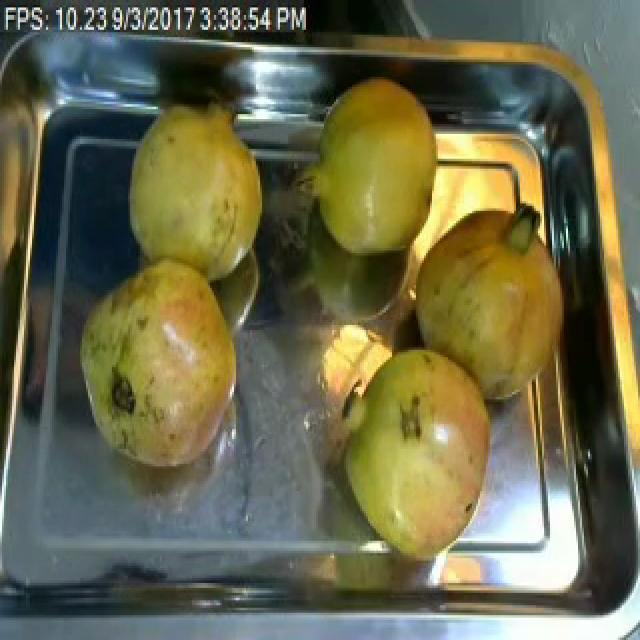fruit: (324, 327, 508, 573), (68, 241, 252, 486), (398, 193, 578, 417), (120, 84, 274, 286), (298, 72, 448, 273)
